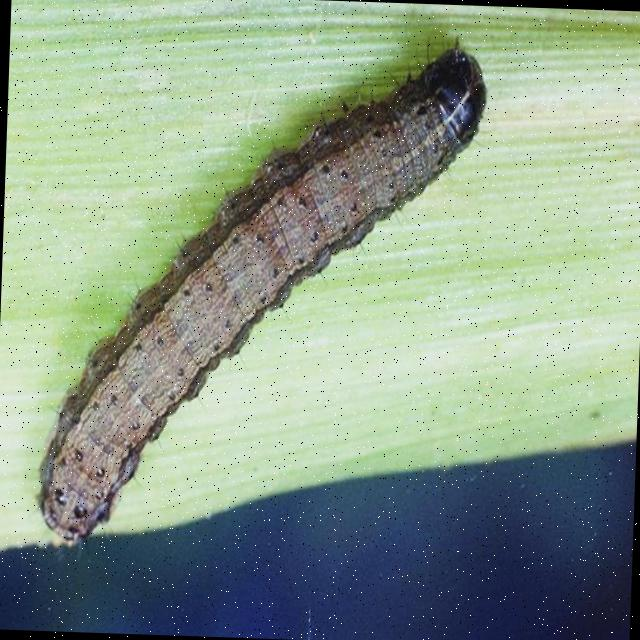worm: (35, 24, 491, 568)
